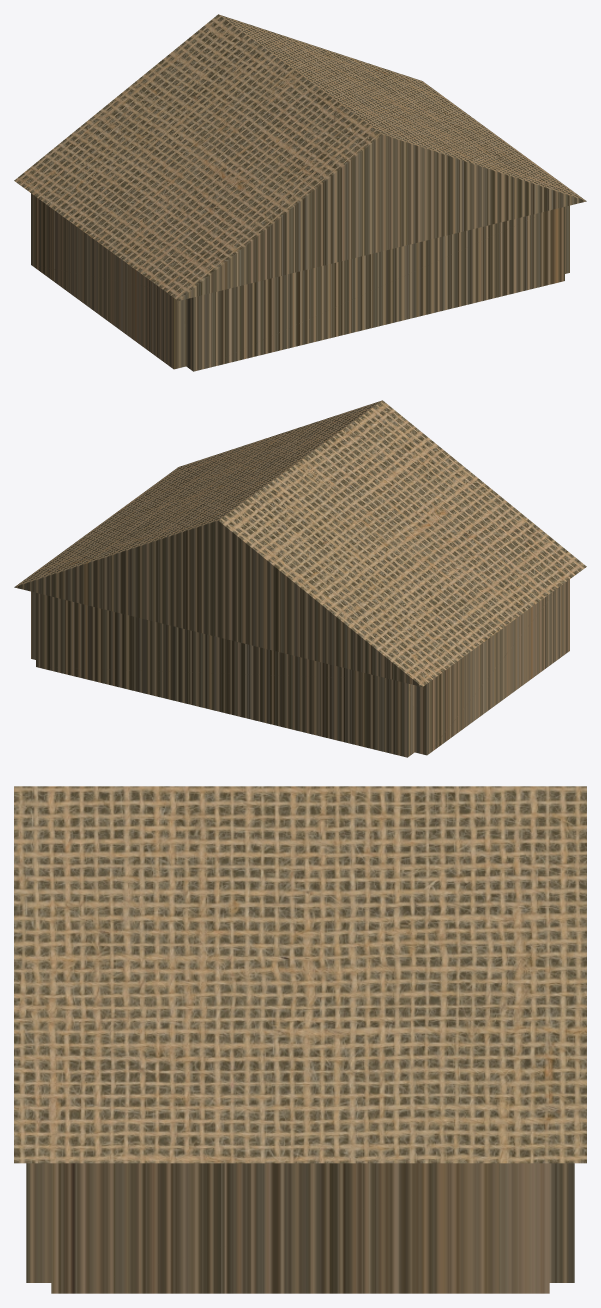
Rendered from hootch.glb.
3 views of the same model, one above another, from view 1: azimuth 30°, elevation 25°; view 2: azimuth 150°, elevation 25°; view 3: azimuth 270°, elevation 25° (orthographic). The views are drawn at different scales.
Visible parts, largest first — view 1: Hootch; view 2: Hootch; view 3: Hootch.
Boxes of the visible parts, box(x1,y1,x2,y2) form: Hootch: box(14, 14, 586, 371); Hootch: box(14, 400, 586, 757); Hootch: box(14, 786, 586, 1293).
Bounding box in the file's own units: 6.6 × 3 × 4.6.
Materials: 1 (1 with a texture image).
